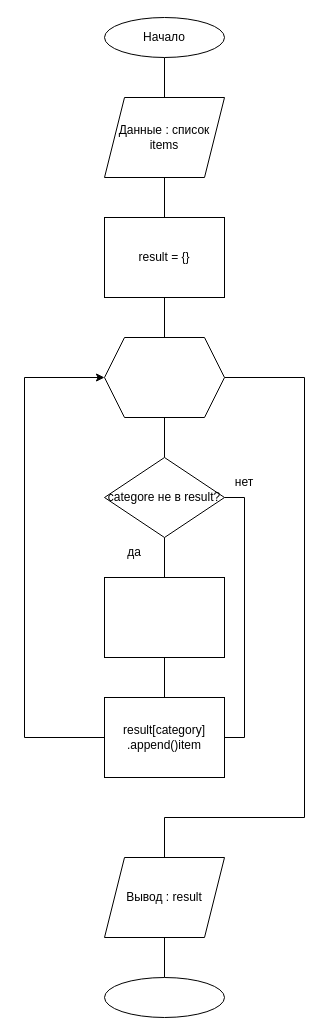
This 323x1035 diagram has some shape labels left out. Each missing label, with the centre of its shape:
"Для каждой пары item, category" goes at (164,377).
"Добавить item в coincidences" goes at (164,617).
"Конец" goes at (164,997).
